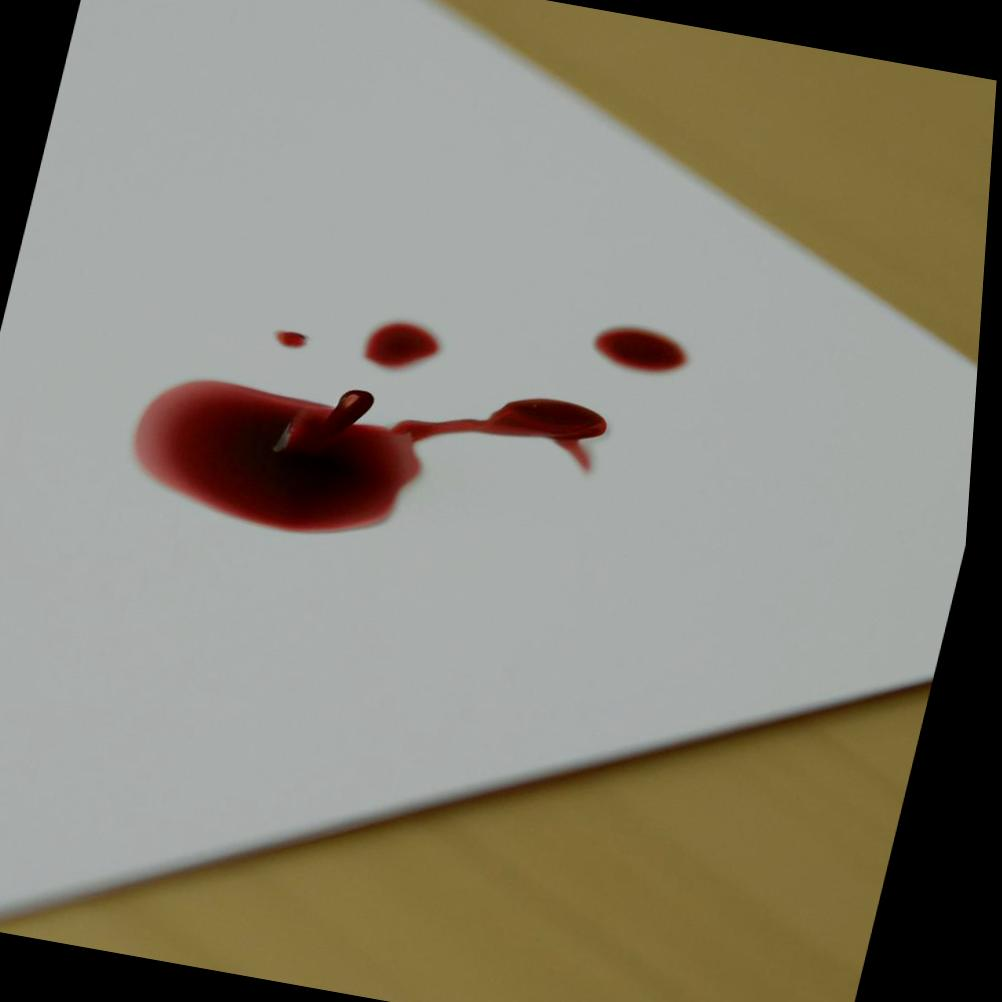Fire: (140, 379, 615, 534), (599, 327, 694, 373), (369, 321, 445, 370), (280, 330, 313, 349)
